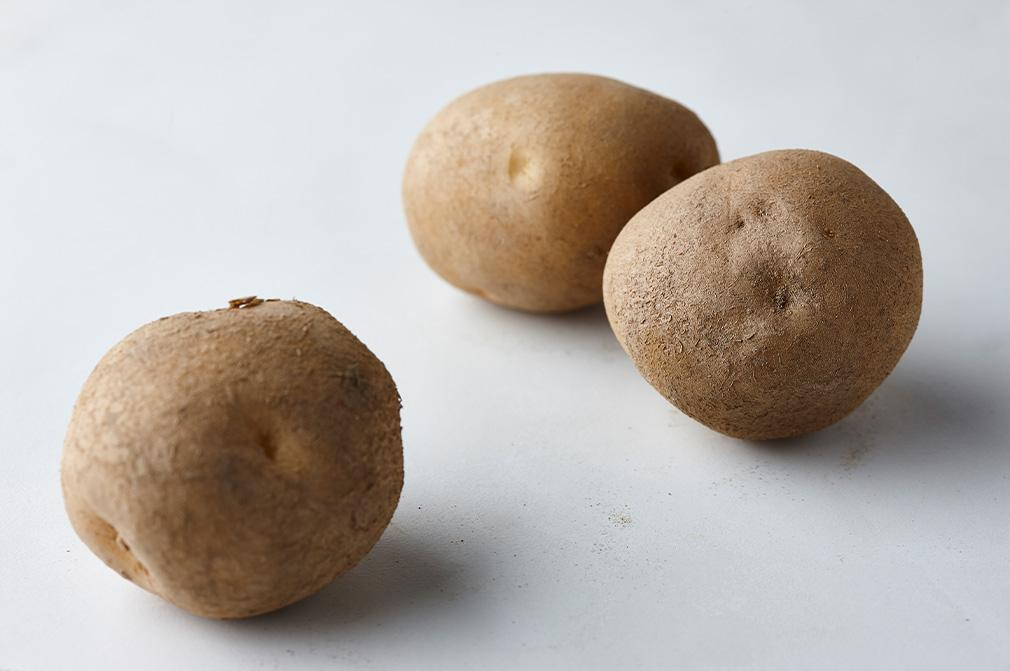potato: (107, 311, 658, 666), (756, 167, 1010, 466)
